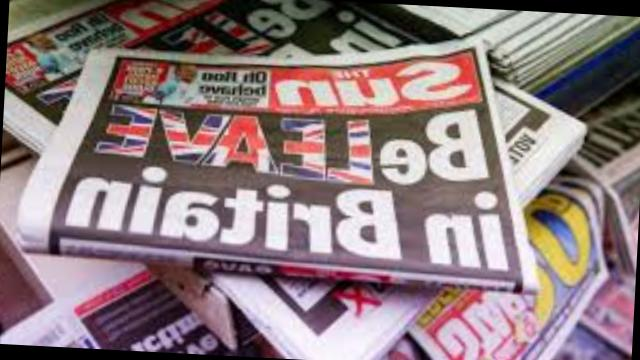cardboard paper: (22, 37, 536, 288)
